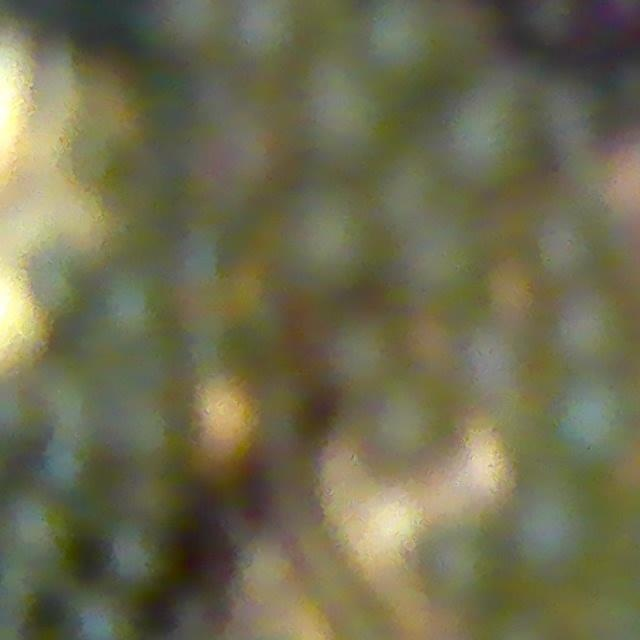SeaGrape: (271, 200, 379, 300), (404, 229, 521, 321), (297, 64, 398, 167), (509, 476, 604, 575), (546, 371, 640, 471), (445, 93, 538, 190), (408, 512, 500, 604), (538, 212, 621, 312), (0, 487, 78, 583), (363, 371, 446, 454), (554, 288, 637, 369), (366, 0, 450, 80), (93, 266, 171, 346), (67, 590, 141, 640), (334, 316, 384, 384), (518, 0, 588, 48), (162, 0, 229, 49)
